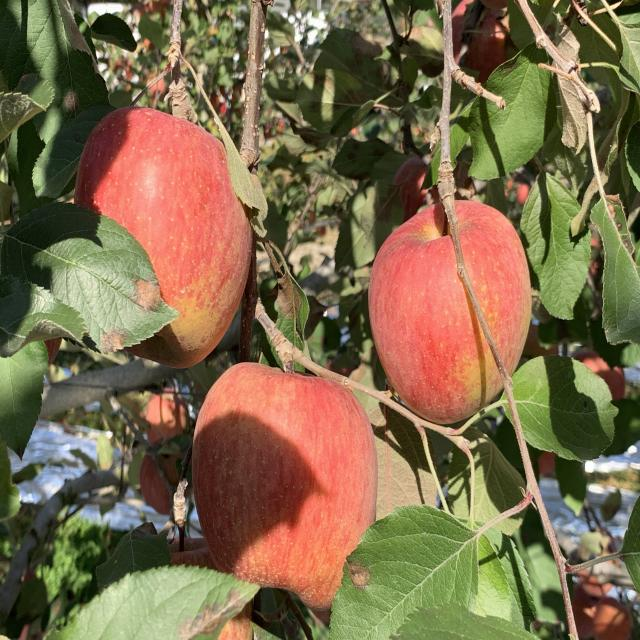fresh: (187, 358, 385, 616), (74, 102, 256, 374), (365, 195, 543, 429)
